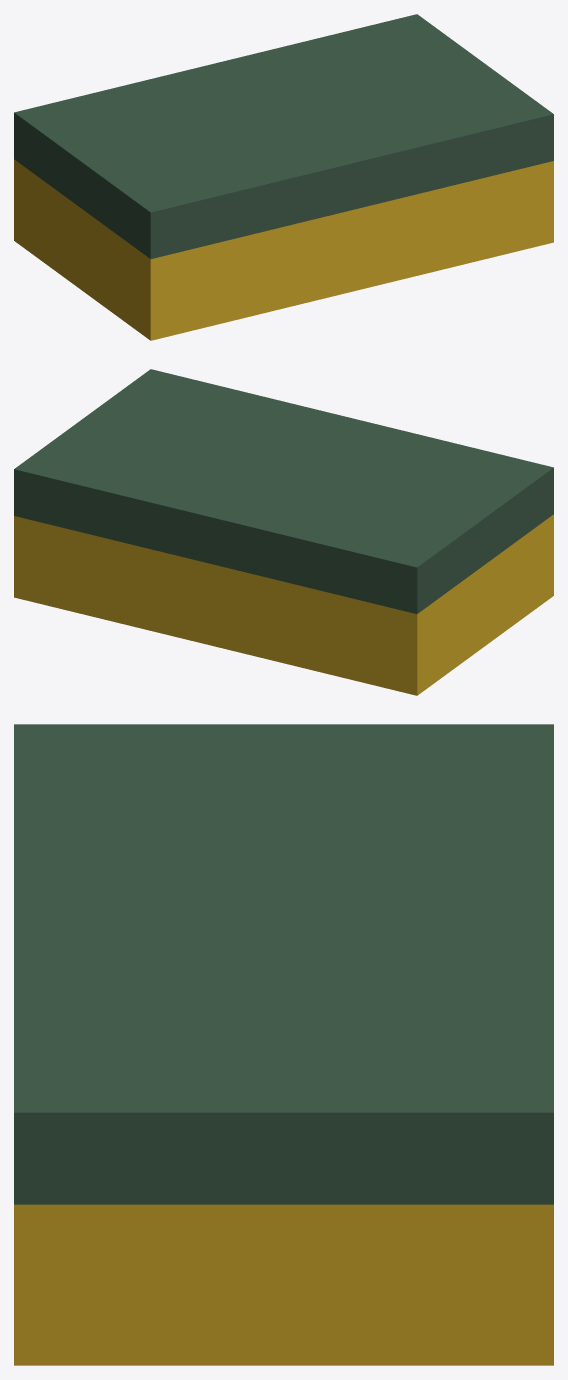
File: Esponja.fbx
3 renders of one model, top to bottom at view 1: azimuth 30°, elevation 25°; view 2: azimuth 150°, elevation 25°; view 3: azimuth 270°, elevation 25°, orthographic. The views are drawn at different scales.
Visible parts, largest first — view 1: Esponja; view 2: Esponja; view 3: Esponja.
Part boxes in pixels (box(x1,y1,x2,y2)): Esponja: box(14, 14, 553, 340); Esponja: box(14, 369, 553, 695); Esponja: box(14, 724, 553, 1365).
Size of the model in its own units: 340 by 104 by 200.
